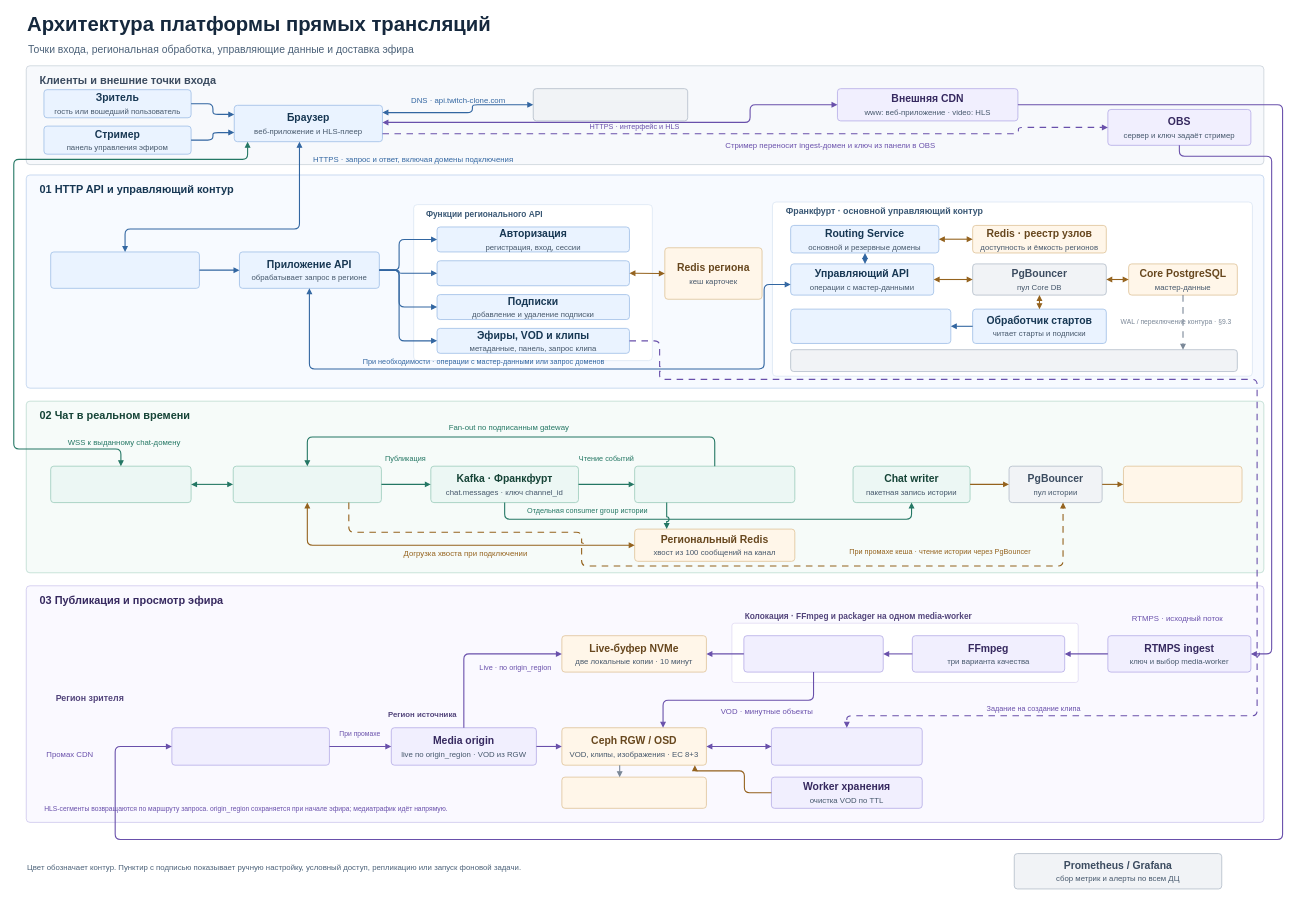
Some shapes in this 1296 by 898 pixel diagram are drawn without their labels. Here are the shapes that lost their labels. From the top down, the centre of each, then its label:
At (610,104): "GeoDNS IP NGINX выбранного ДЦ".
At (125,269): "Региональный NGINX TLS и rate limit · по 2 в ДЦ".
At (533,273): "Каталог и поиск карточки, каналы, категории".
At (870,326): "Уведомления о старте эфира для онлайн-подписчиков".
At (1013,360): "Ашберн · резерв управляющий API, Routing Service, реплики SQL и Kafka".
At (120,484): "WebSocket ingress chat-домен выбранного региона".
At (307,484): "Chat gateway WSS, проверка прав, ACK Kafka".
At (714,484): "Региональный fan-out по одной consumer group на регион".
At (1182,484): "Chat Master DB PostgreSQL · Франкфурт".
At (813,653): "HLS packager сегменты 2 с и плейлисты".
At (250,746): "Media shield кеш и объединение промахов".
At (846,746): "Worker клипов создаёт самостоятельный файл".
At (634,792): "Ceph в парном регионе реплика медиаданных".
